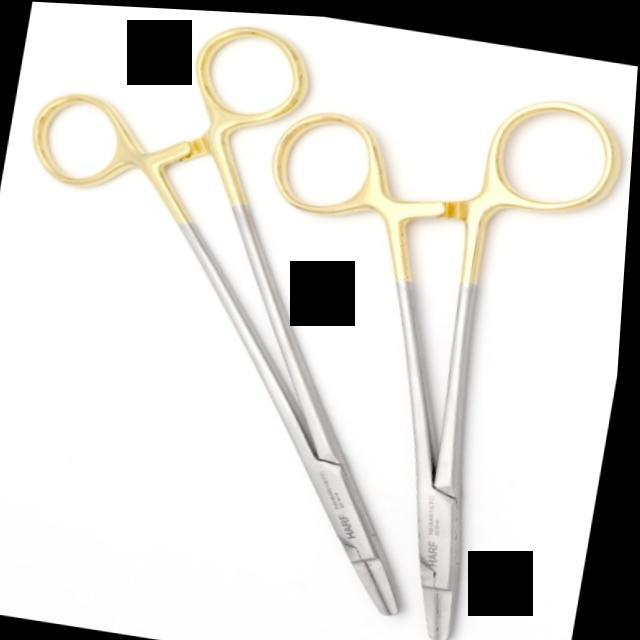Needle Holder: (0, 0, 499, 614), (203, 49, 638, 640)
